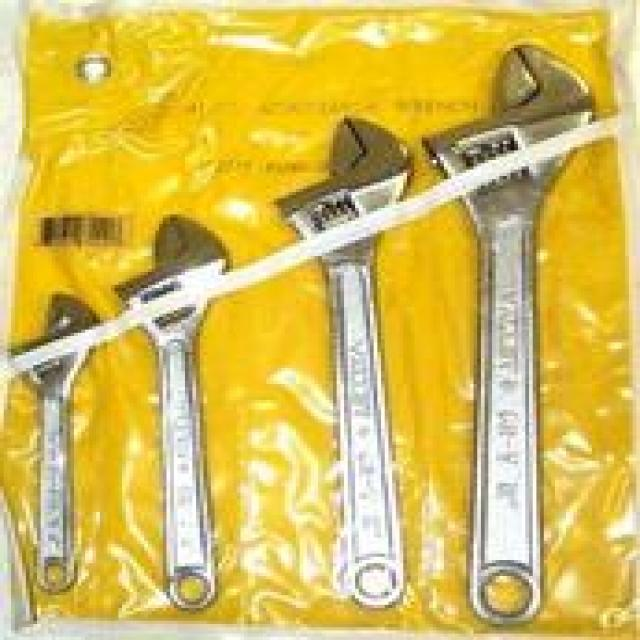wrench: (426, 36, 608, 632), (272, 109, 423, 613), (106, 204, 234, 611), (9, 289, 108, 598)
